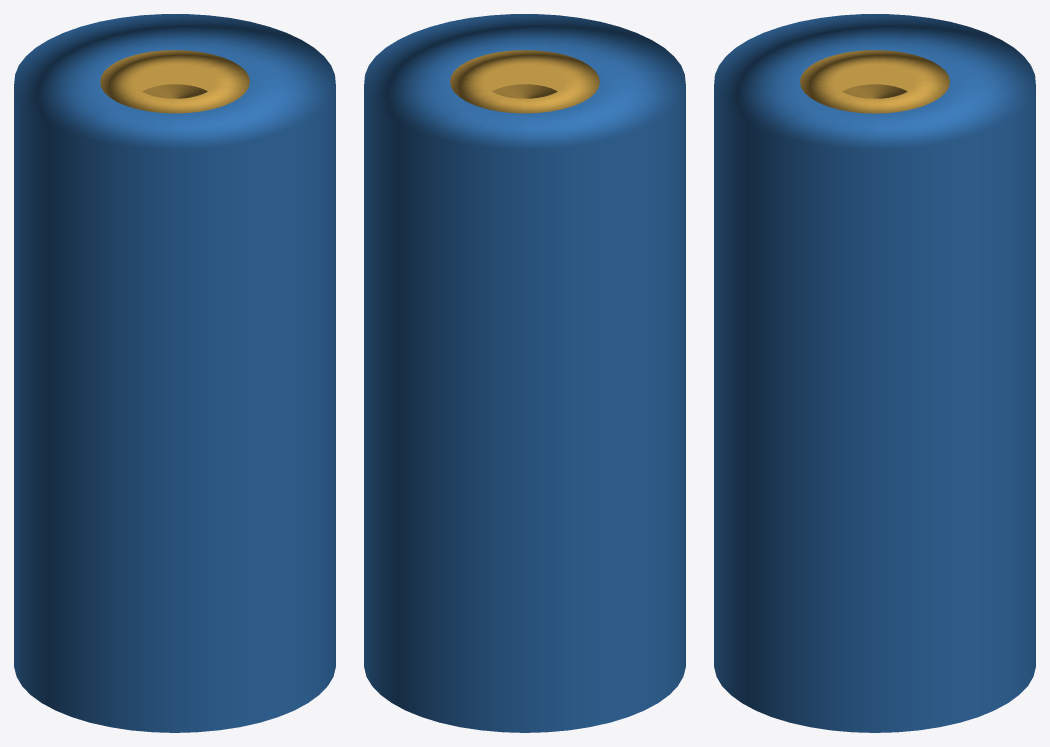
File: insert_boss.obj
3 views of the same model, side by side, from view 1: azimuth 30°, elevation 25°; view 2: azimuth 150°, elevation 25°; view 3: azimuth 270°, elevation 25° (orthographic).
Visible parts, largest first — view 1: boss, heat-set_insert, knurl_3; view 2: boss, heat-set_insert, knurl_3; view 3: boss, heat-set_insert, knurl_3.
Boxes of the visible parts, x1,y1,x2,y2 form: boss: [14, 14, 335, 732]; heat-set_insert: [100, 50, 249, 113]; knurl_3: [142, 84, 207, 98]; boss: [364, 14, 685, 732]; heat-set_insert: [450, 50, 599, 113]; knurl_3: [492, 84, 557, 98]; boss: [714, 14, 1035, 732]; heat-set_insert: [800, 50, 949, 113]; knurl_3: [842, 84, 907, 98].
Bounding box in the file's own units: 0.012 × 0.024 × 0.012.
